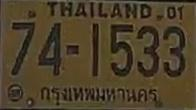1: (92, 23, 98, 76)
3: (162, 26, 185, 76), (136, 25, 158, 76)
4: (37, 22, 62, 75)
5: (110, 23, 133, 76)
7: (11, 21, 35, 75)
BKK: (39, 83, 158, 105)
